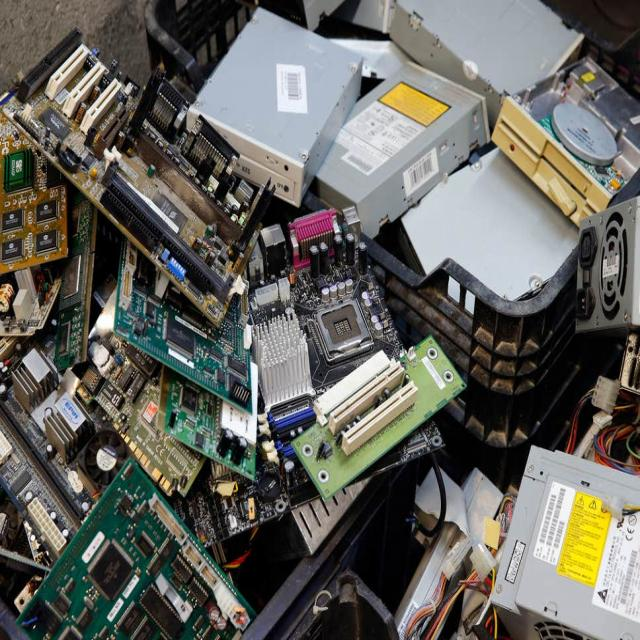hazard: (2, 6, 640, 624)
